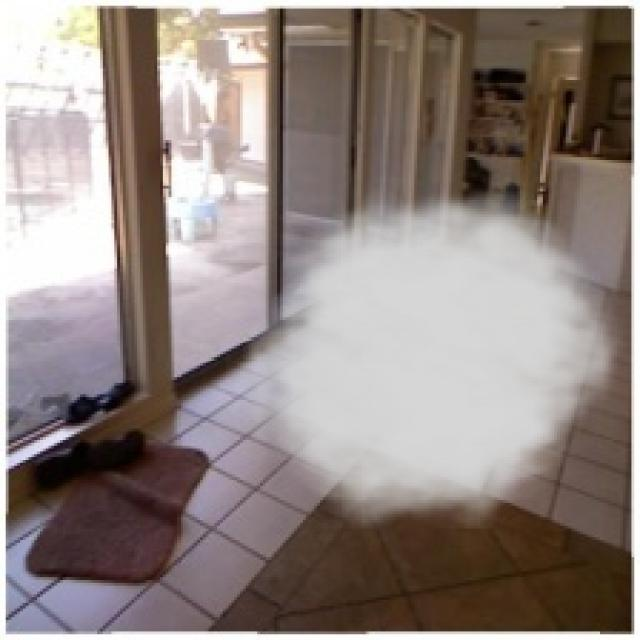smoke: (226, 174, 634, 529)
